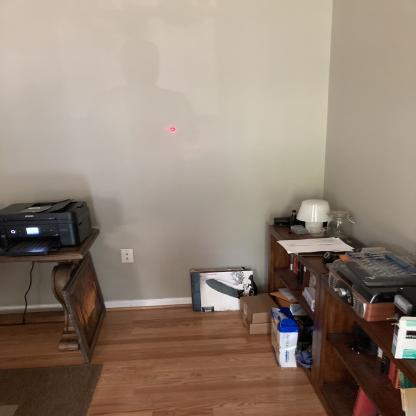target: (165, 122, 182, 137)
